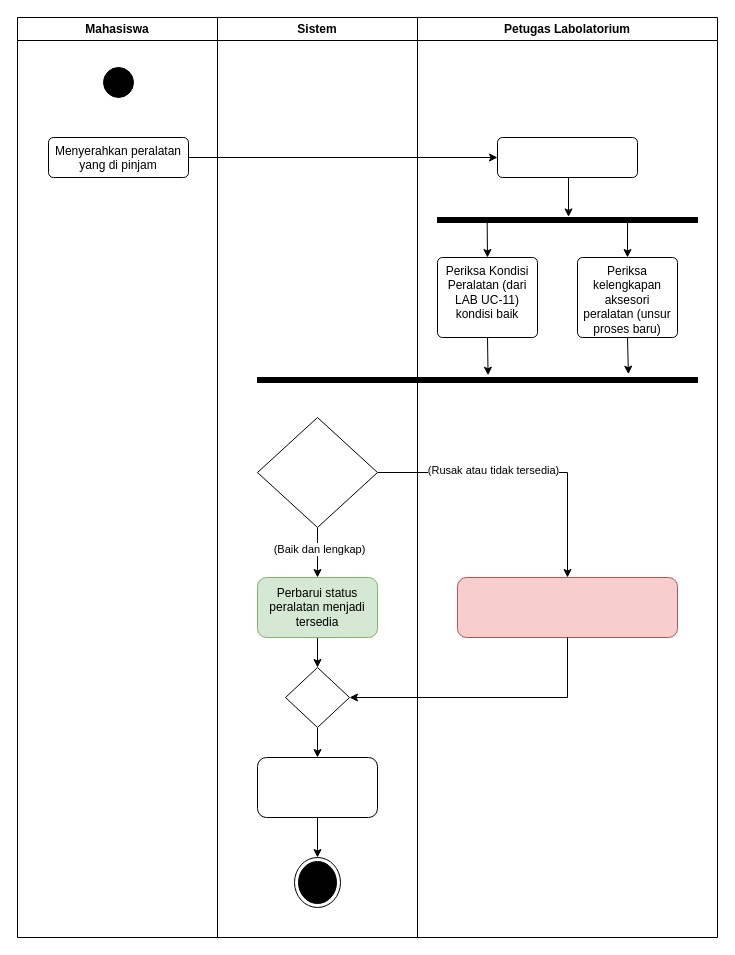
Image size: 735x955. Some labels were removed from this diagram. The shapes that lost their labels are listed below. From the top down, each one's box as (x1, y1, x2, y2) in pixels, then its label:
(496, 136, 638, 178): Catat pengembalian Peralatan (LAB-UC11)
(256, 416, 378, 528): Kondisi peralatan baik dan lengkap?
(456, 576, 678, 638): Catat kerusakan atau kekurangan dan jadwalkan perbaikan
(256, 756, 378, 818): Menutup transaksi peminjaman
